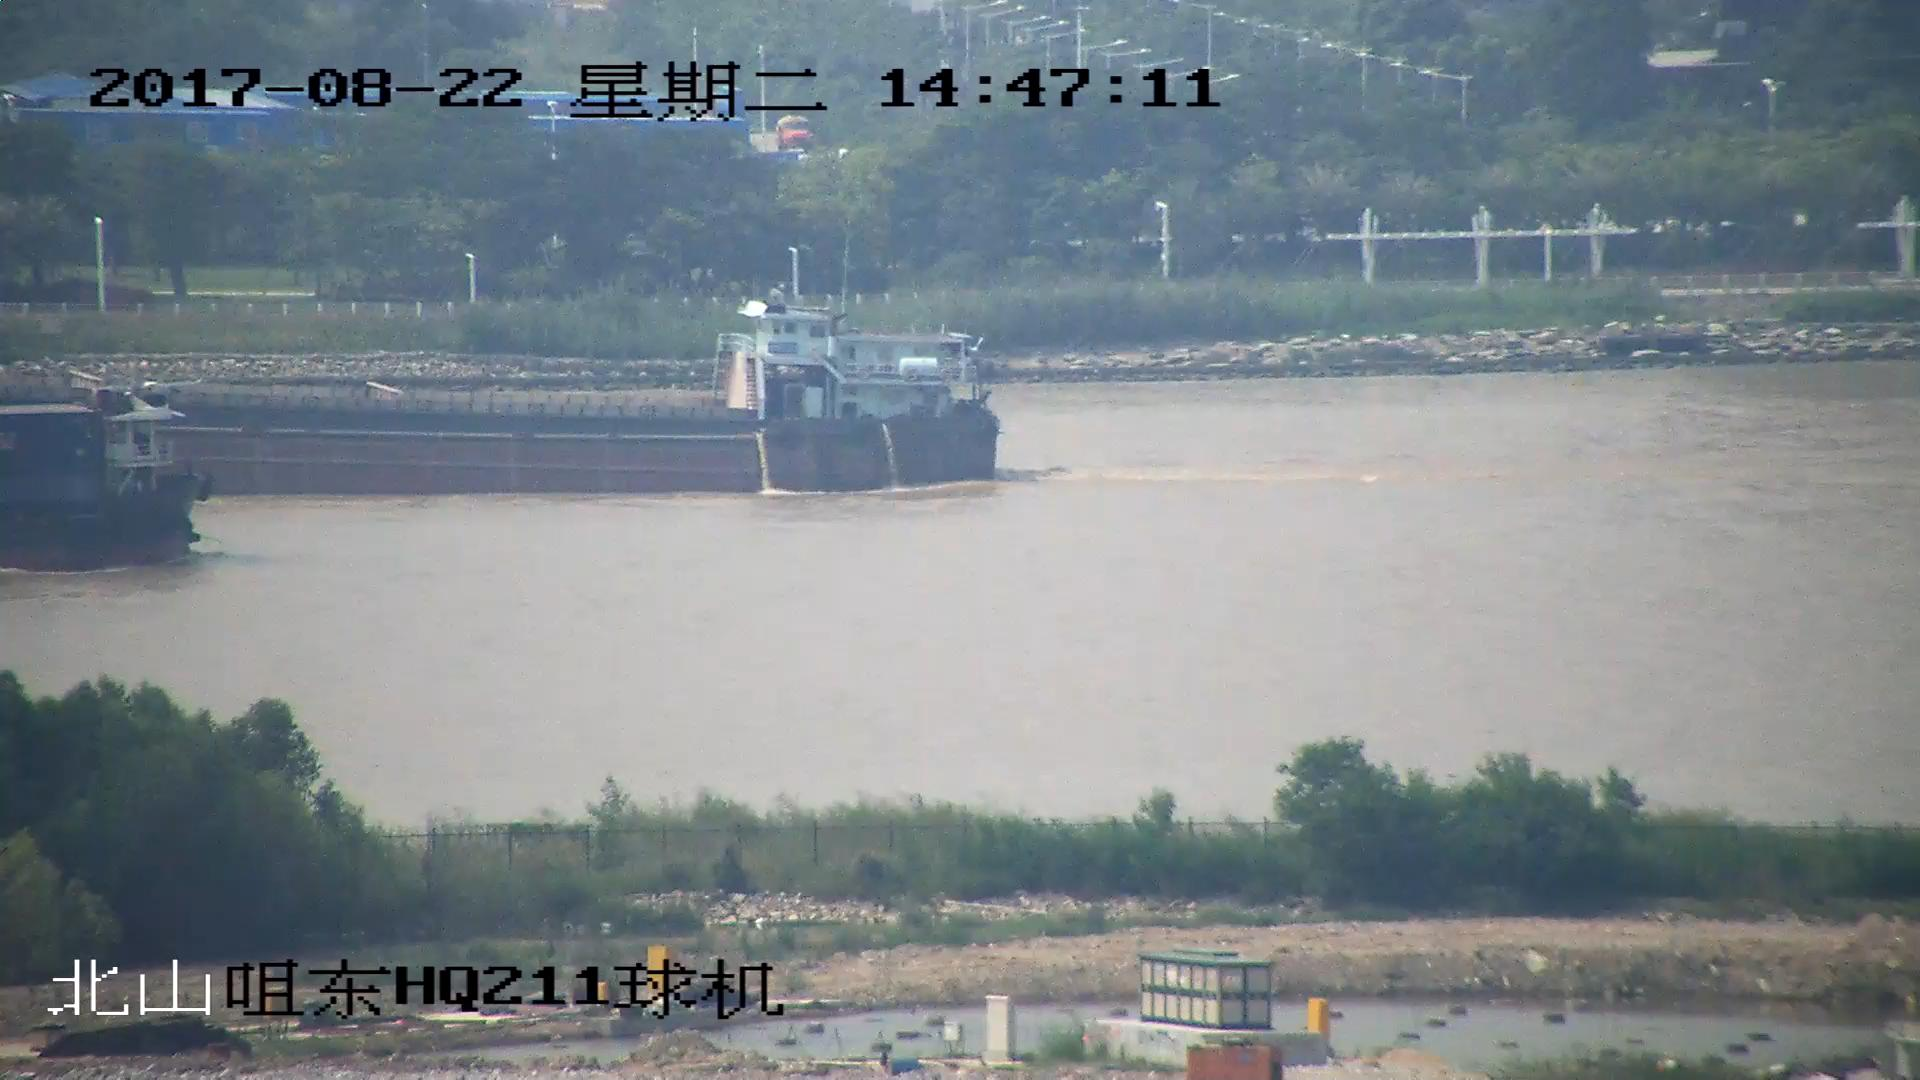bulk cargo carrier: (1, 297, 1010, 497)
container ship: (1, 377, 216, 569)
